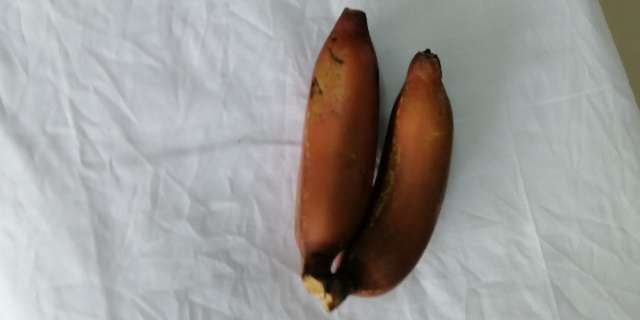banana_red: (328, 50, 457, 303), (293, 5, 380, 303)
